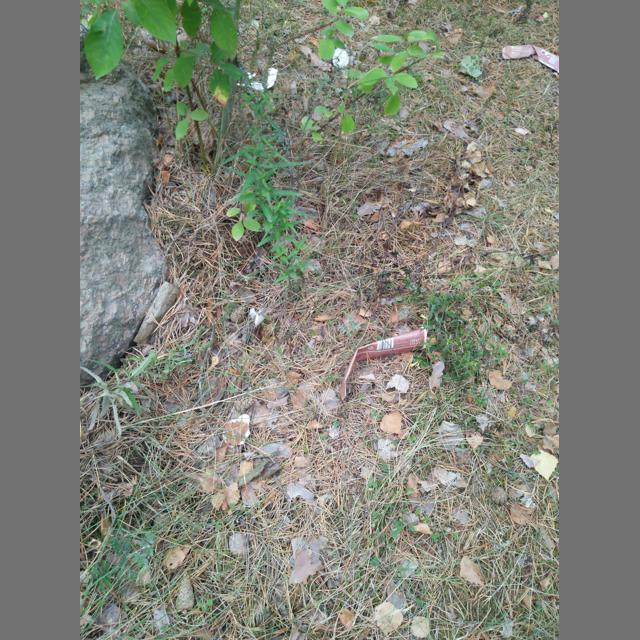litter: (338, 327, 427, 400), (503, 45, 560, 73), (237, 68, 277, 92)
